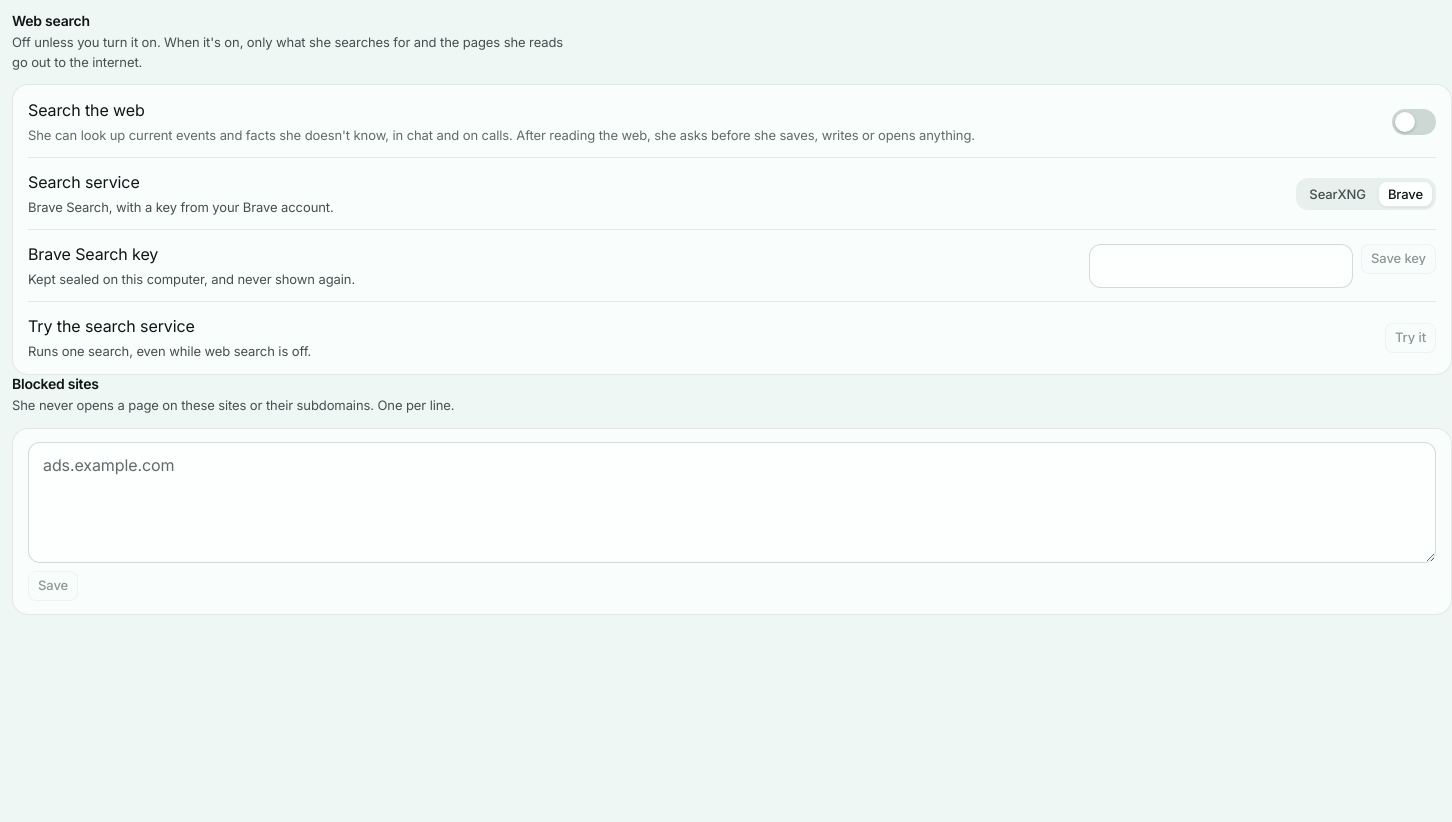
web search settings › takes a Brave key and never shows it again
Type "sk-brave-FAKE-0001" into the password field named "Brave Search key" at (1221, 266), box 1089,244 -> 1353,288
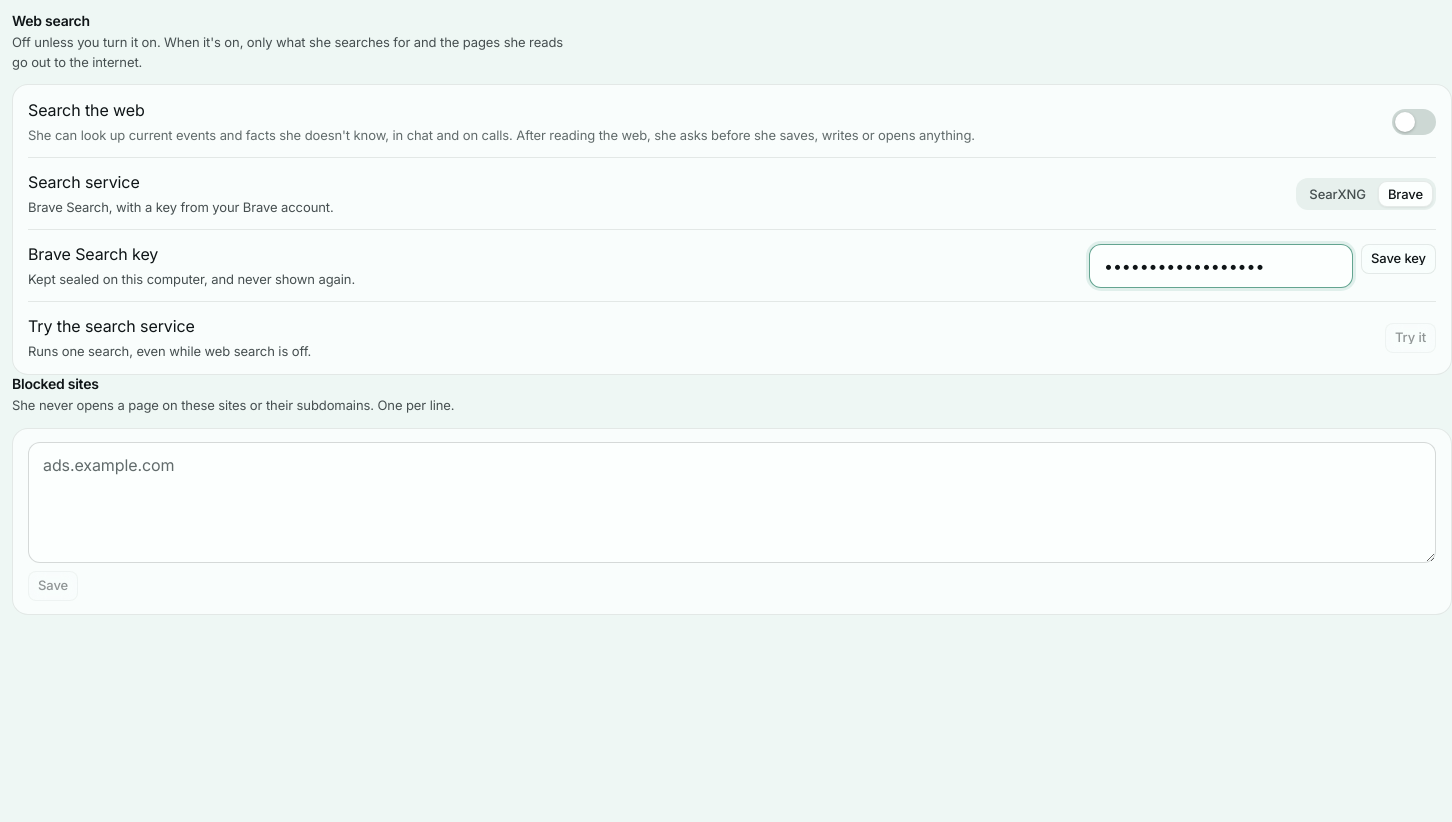
Click the button "Save key" at (1398, 259), box 1361,244 -> 1436,274
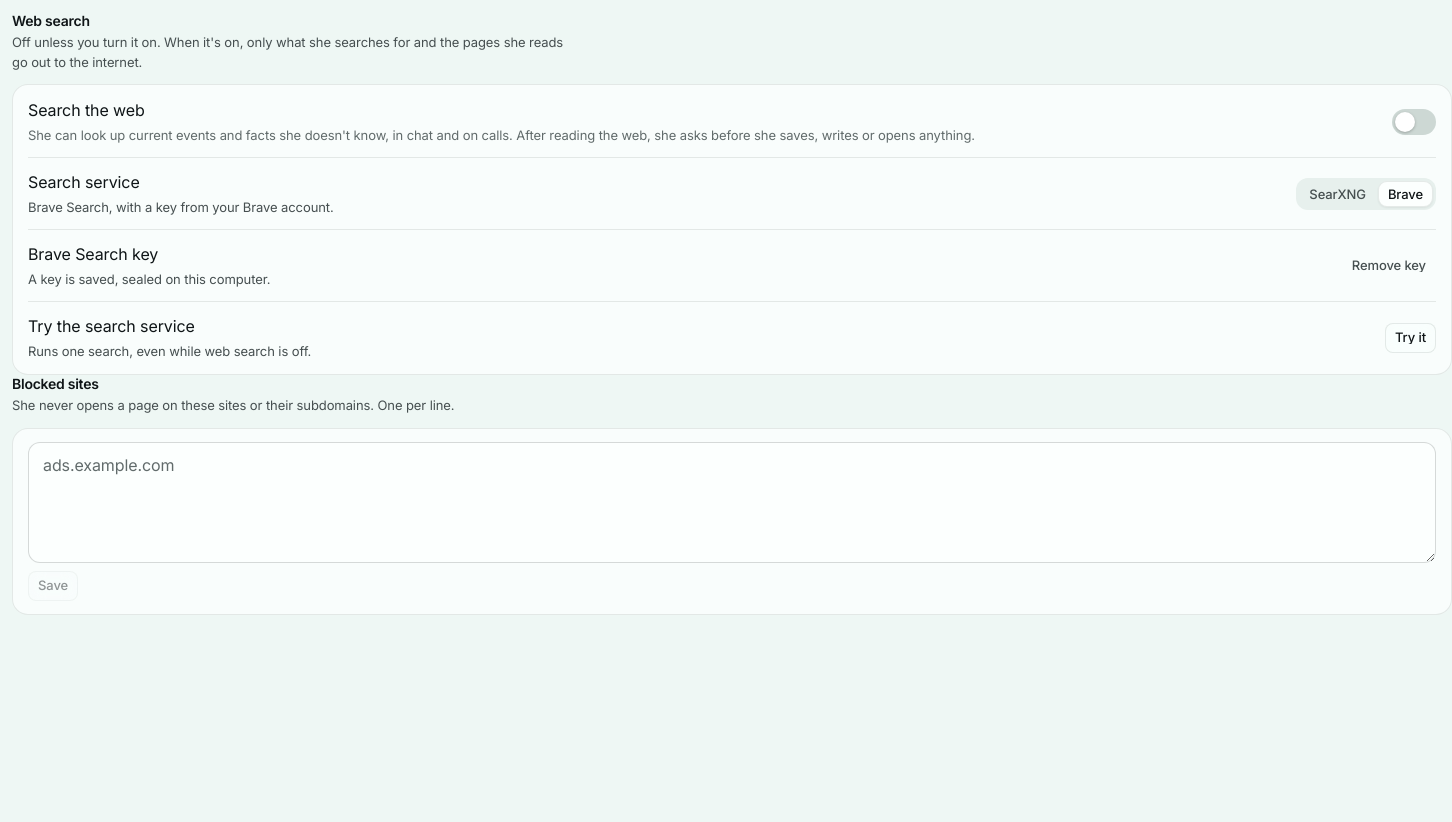
Check: the text "A key is saved, sealed on this computer." is shown, box 28,271 -> 270,287
